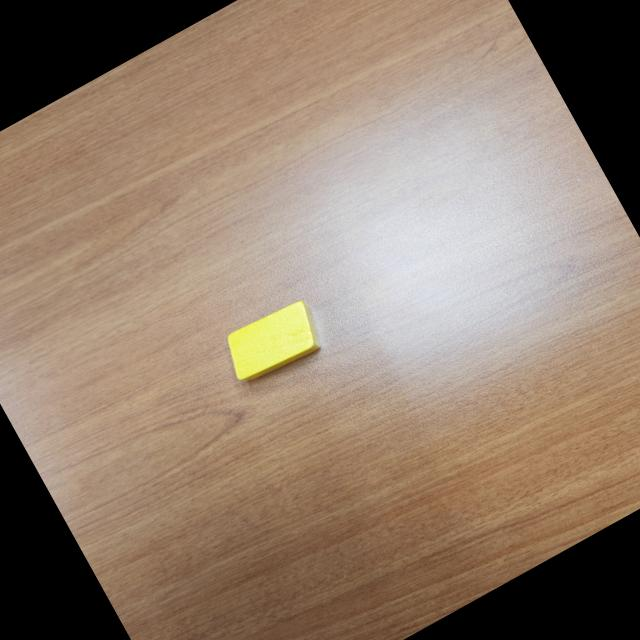yellow: (215, 292, 332, 393)
